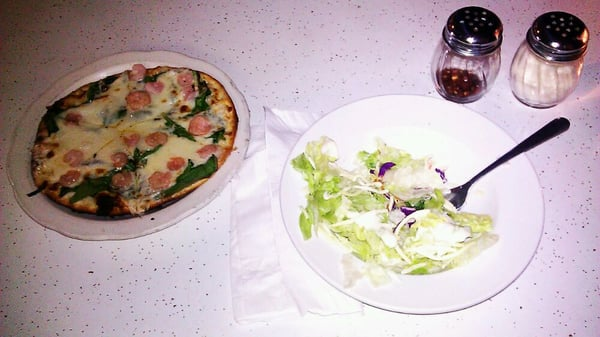salad: (447, 117, 570, 210)
sushi: (277, 94, 549, 316)
